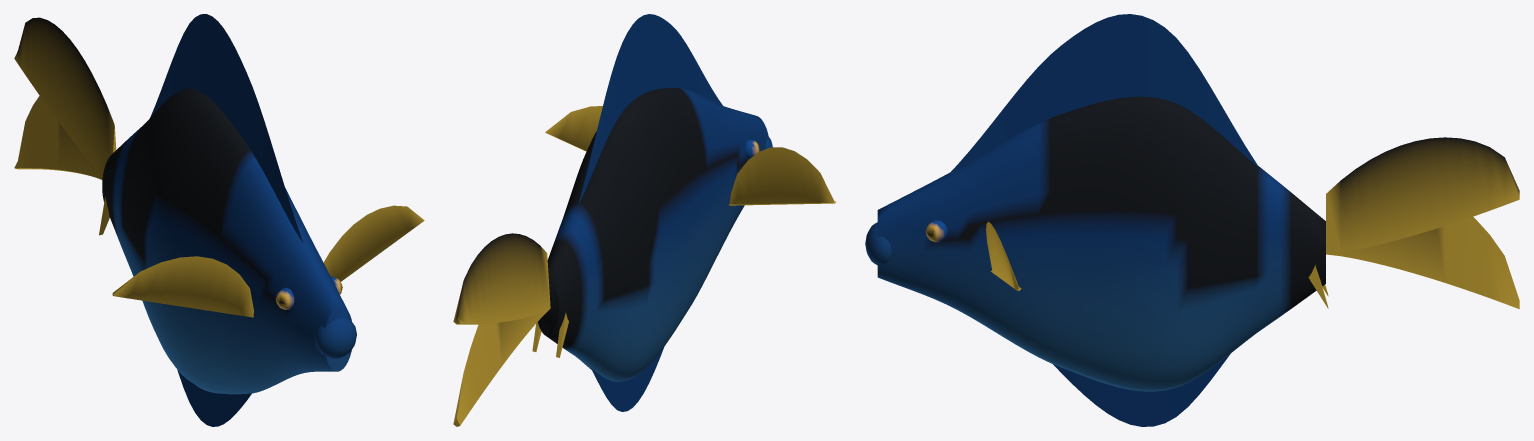
File: blue_tang.glb
The picture shows the model from 3 angles, left to right: view 1: azimuth 30°, elevation 25°; view 2: azimuth 150°, elevation 25°; view 3: azimuth 270°, elevation 25°; orthographic projection. The views are drawn at different scales.
Visible parts, largest first — view 1: Pelagic.blue_tang.Surface, Pelagic.blue_tang.Eye; view 2: Pelagic.blue_tang.Surface; view 3: Pelagic.blue_tang.Surface.
Part boxes in pixels (x1,y1,x2,y2): Pelagic.blue_tang.Surface: (14, 14, 424, 426); Pelagic.blue_tang.Eye: (275, 276, 342, 309); Pelagic.blue_tang.Surface: (453, 14, 835, 426); Pelagic.blue_tang.Surface: (865, 14, 1519, 426).
Size of the model in its own units: 0.2961 by 0.3761 by 0.5402.
